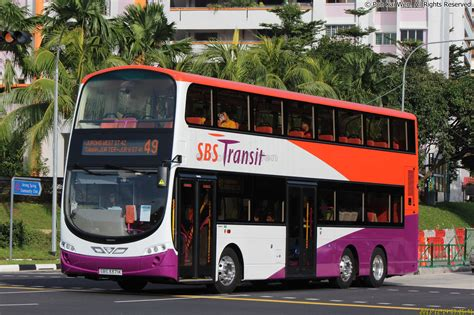bus: (67, 70, 419, 289)
